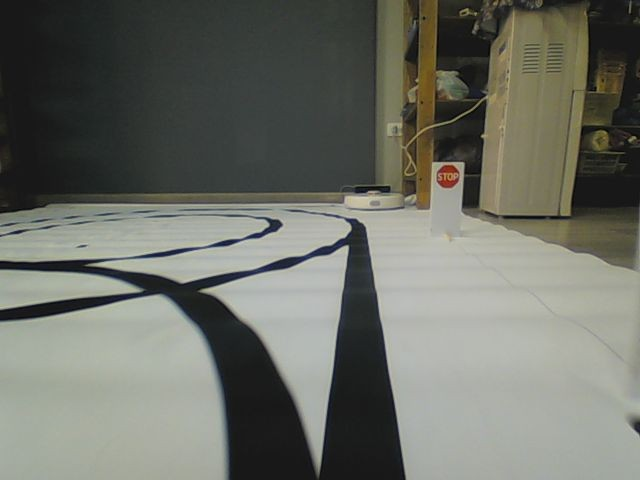Stop: (434, 165, 462, 189)
